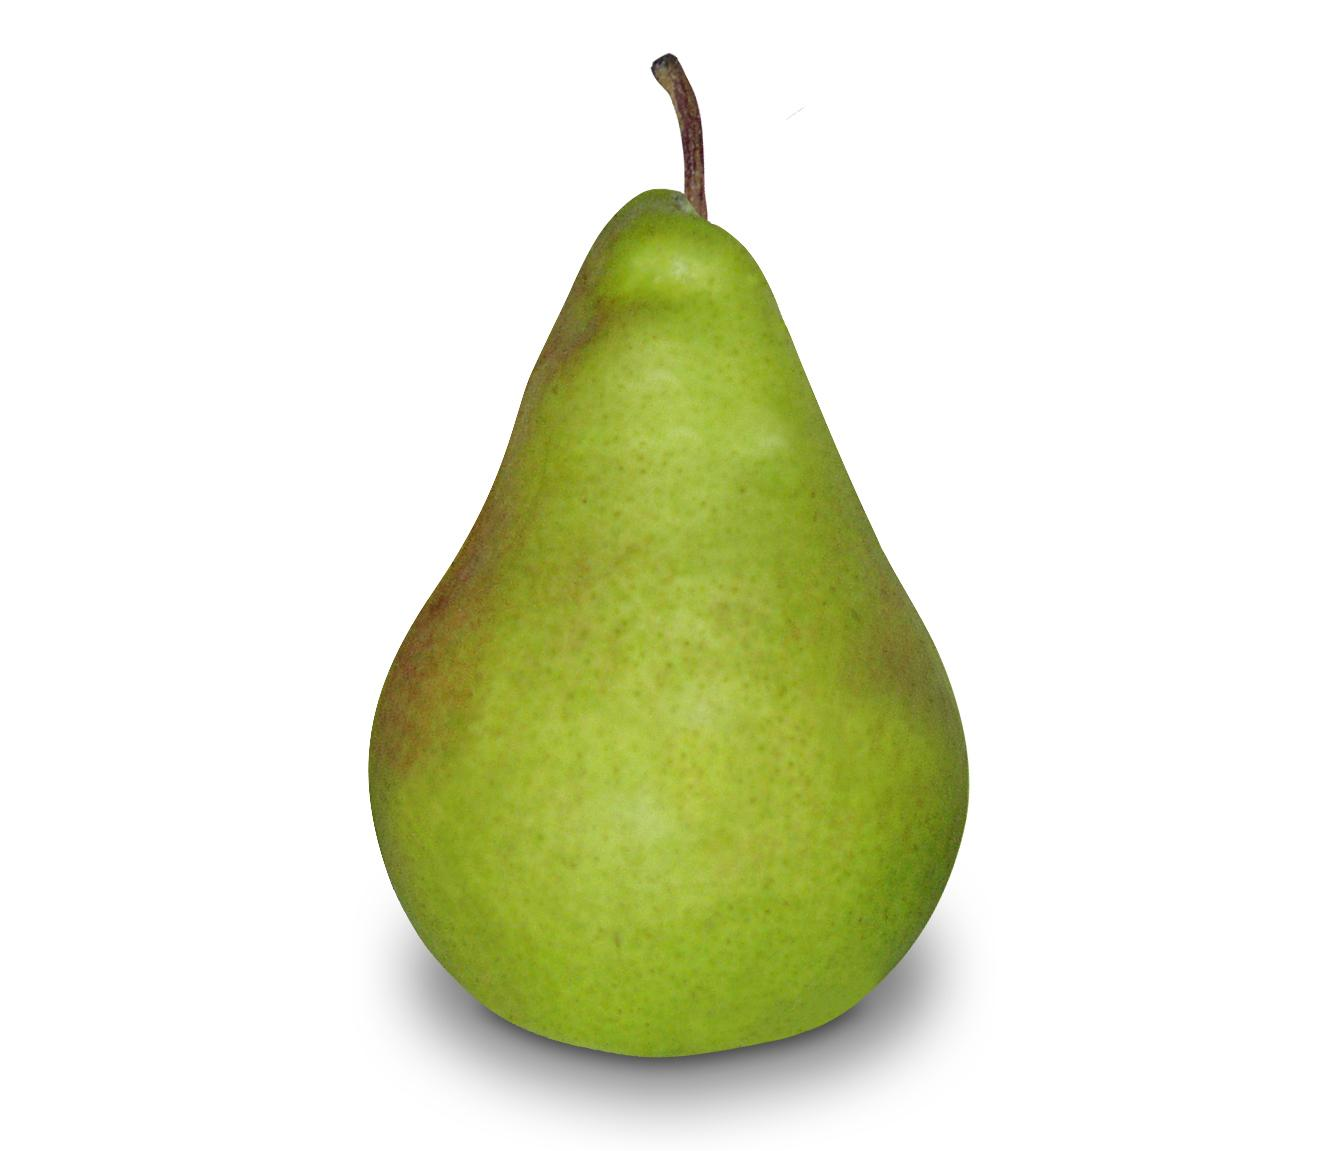peas: (268, 140, 1025, 1068)
